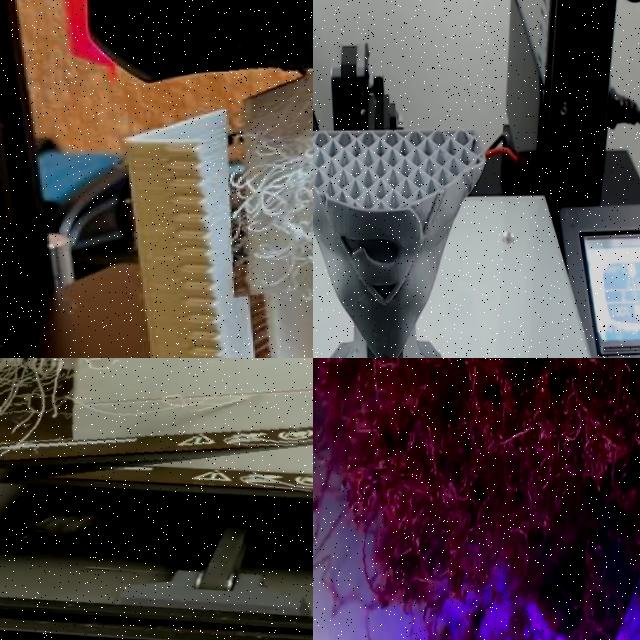spaghetti: (313, 358, 640, 640), (0, 358, 313, 500), (225, 46, 313, 299), (462, 581, 627, 640)
